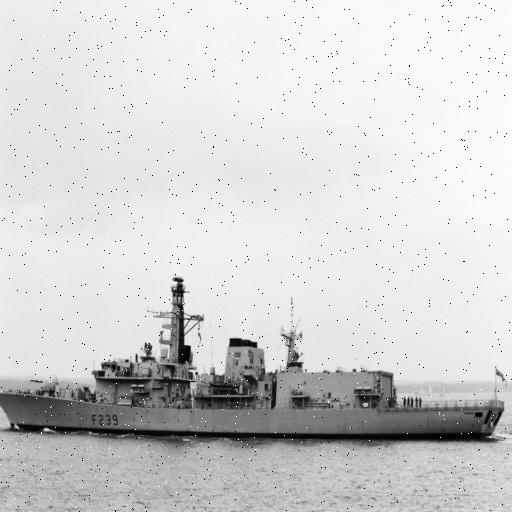Fragata: (1, 269, 507, 438)
